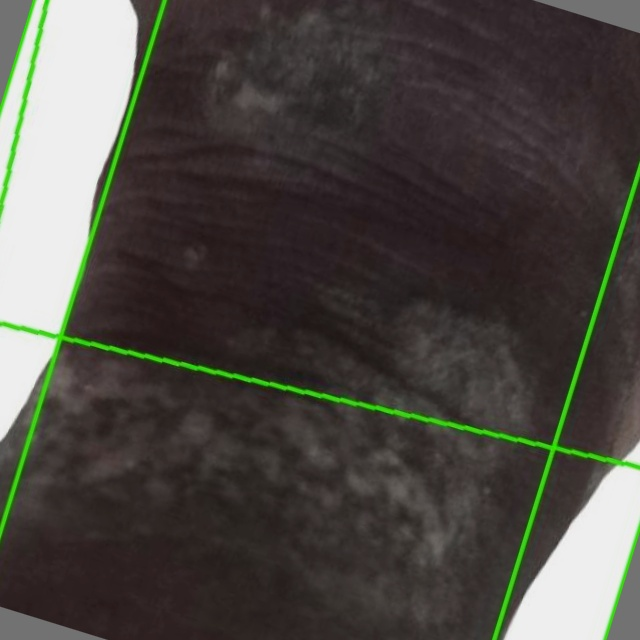Eczema: (0, 0, 639, 465)
